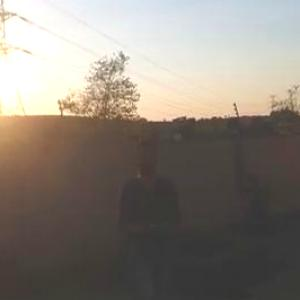follow: (114, 132, 186, 299)
